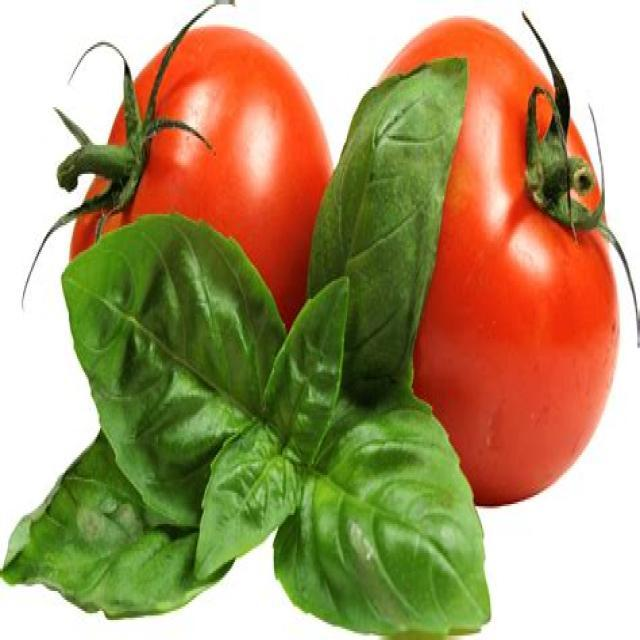Tomato: (392, 16, 625, 510), (56, 21, 334, 323)
